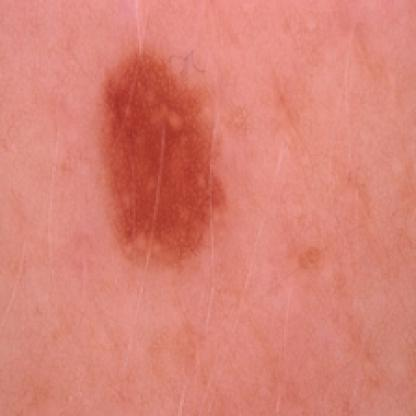benign: (98, 50, 223, 256)
